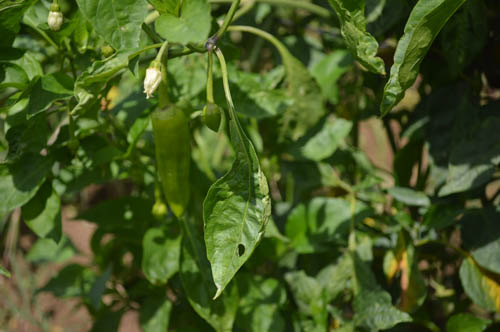ChiliPepper: (150, 110, 194, 218)
